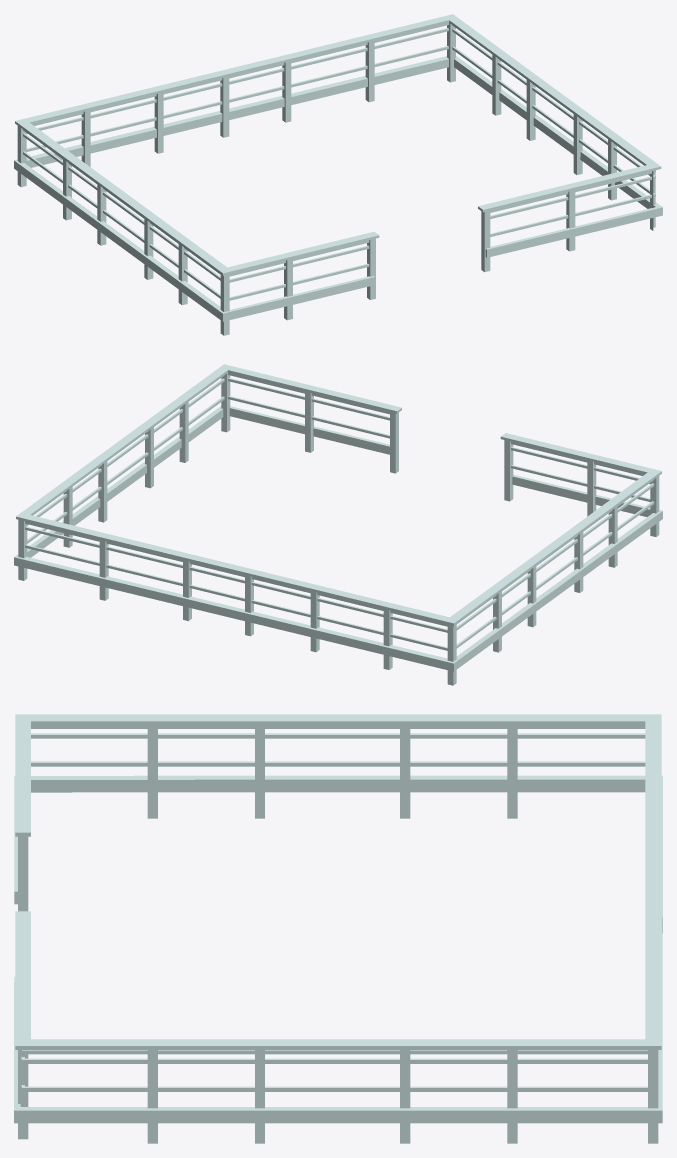
The model's file is Testhouse_Foundation_FenceSmall_VAR1.fbx.
3 renders of one model, top to bottom at view 1: azimuth 30°, elevation 25°; view 2: azimuth 150°, elevation 25°; view 3: azimuth 270°, elevation 25°, orthographic. The views are drawn at different scales.
Visible parts, largest first — view 1: Testhouse_Foundation_FenceSmall.001; view 2: Testhouse_Foundation_FenceSmall.001; view 3: Testhouse_Foundation_FenceSmall.001.
Boxes of the visible parts, left/top/right/bottom form: Testhouse_Foundation_FenceSmall.001: left=14, top=14, right=662, bottom=335; Testhouse_Foundation_FenceSmall.001: left=14, top=364, right=662, bottom=685; Testhouse_Foundation_FenceSmall.001: left=14, top=714, right=662, bottom=1143.
Bounding box in the file's own units: 301 × 248 × 41.5.
